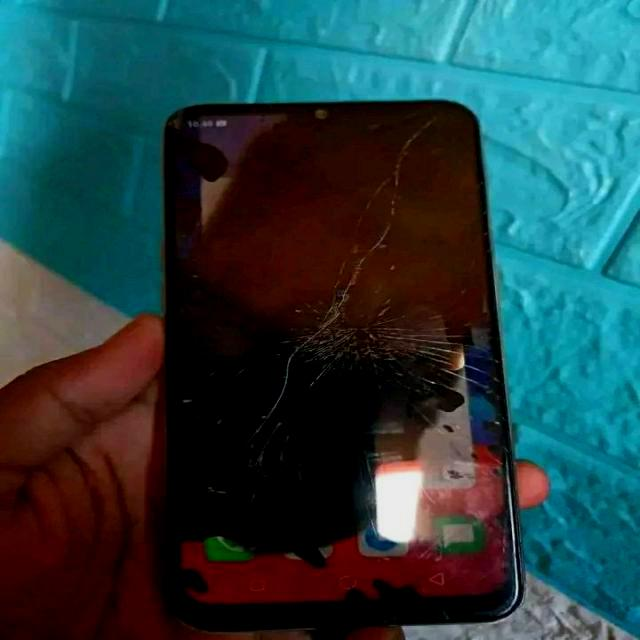phone: (159, 97, 526, 621)
